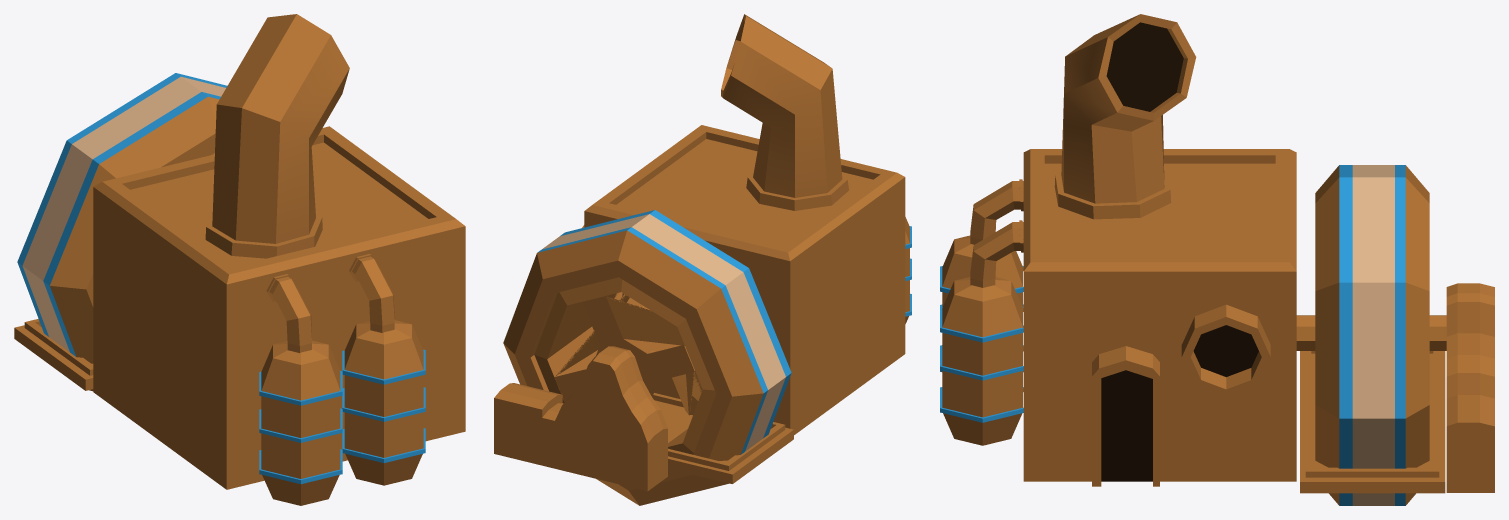
The model's file is Factory.fbx.
The picture shows the model from 3 angles, left to right: view 1: azimuth 30°, elevation 25°; view 2: azimuth 150°, elevation 25°; view 3: azimuth 270°, elevation 25°; orthographic projection. The views are drawn at different scales.
Parts seen in each view (by area): view 1: pCylinder9; view 2: pCylinder9; view 3: pCylinder9.
Part boxes in pixels (<box>): pCylinder9: <box>14,14,465,505</box>; pCylinder9: <box>494,14,911,505</box>; pCylinder9: <box>940,14,1494,505</box>.
Bounding box in the file's own units: 453 × 676 × 704.
